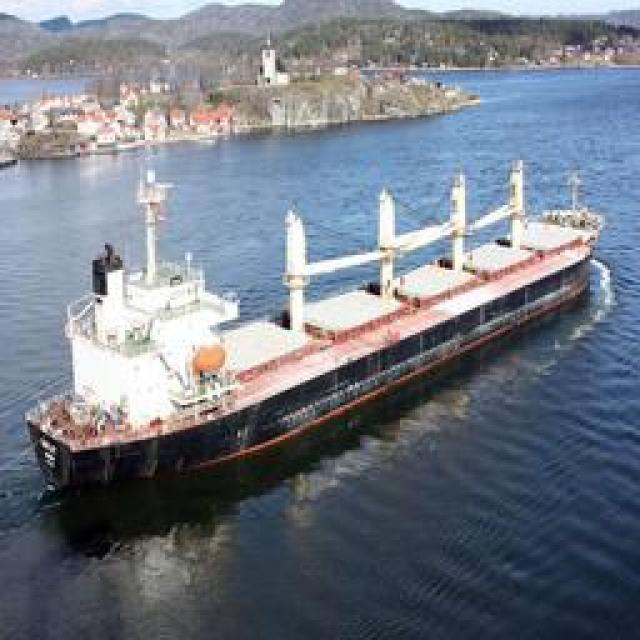CIV_Ship: (40, 185, 610, 508)
